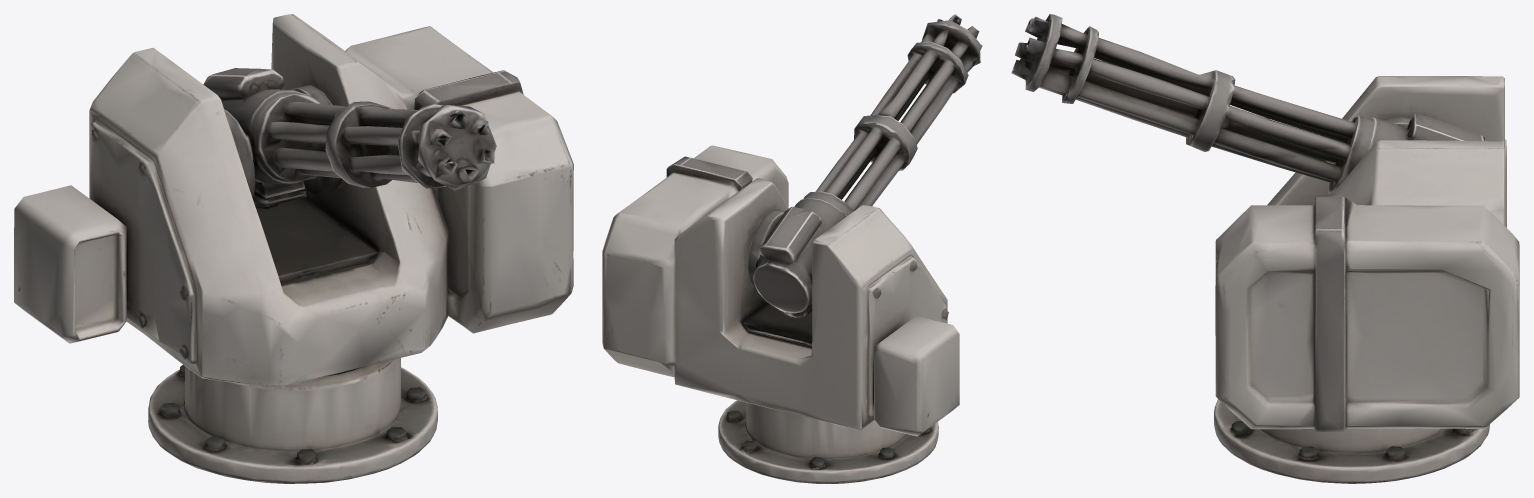
File: pdc.glb
3 views of the same model, side by side, from view 1: azimuth 30°, elevation 25°; view 2: azimuth 150°, elevation 25°; view 3: azimuth 270°, elevation 25° (orthographic). The views are drawn at different scales.
Parts seen in each view (by area): view 1: tripo_node_2011b8b6-1142-4204-9b06-7e4a6fdf6990; view 2: tripo_node_2011b8b6-1142-4204-9b06-7e4a6fdf6990; view 3: tripo_node_2011b8b6-1142-4204-9b06-7e4a6fdf6990.
Part boxes in pixels (left/top/right/bottom): tripo_node_2011b8b6-1142-4204-9b06-7e4a6fdf6990: left=14, top=14, right=573, bottom=483; tripo_node_2011b8b6-1142-4204-9b06-7e4a6fdf6990: left=602, top=14, right=982, bottom=483; tripo_node_2011b8b6-1142-4204-9b06-7e4a6fdf6990: left=1011, top=14, right=1519, bottom=483.
Bounding box in the file's own units: 1.8 × 1.78 × 2.
1 material, 1 textured.
